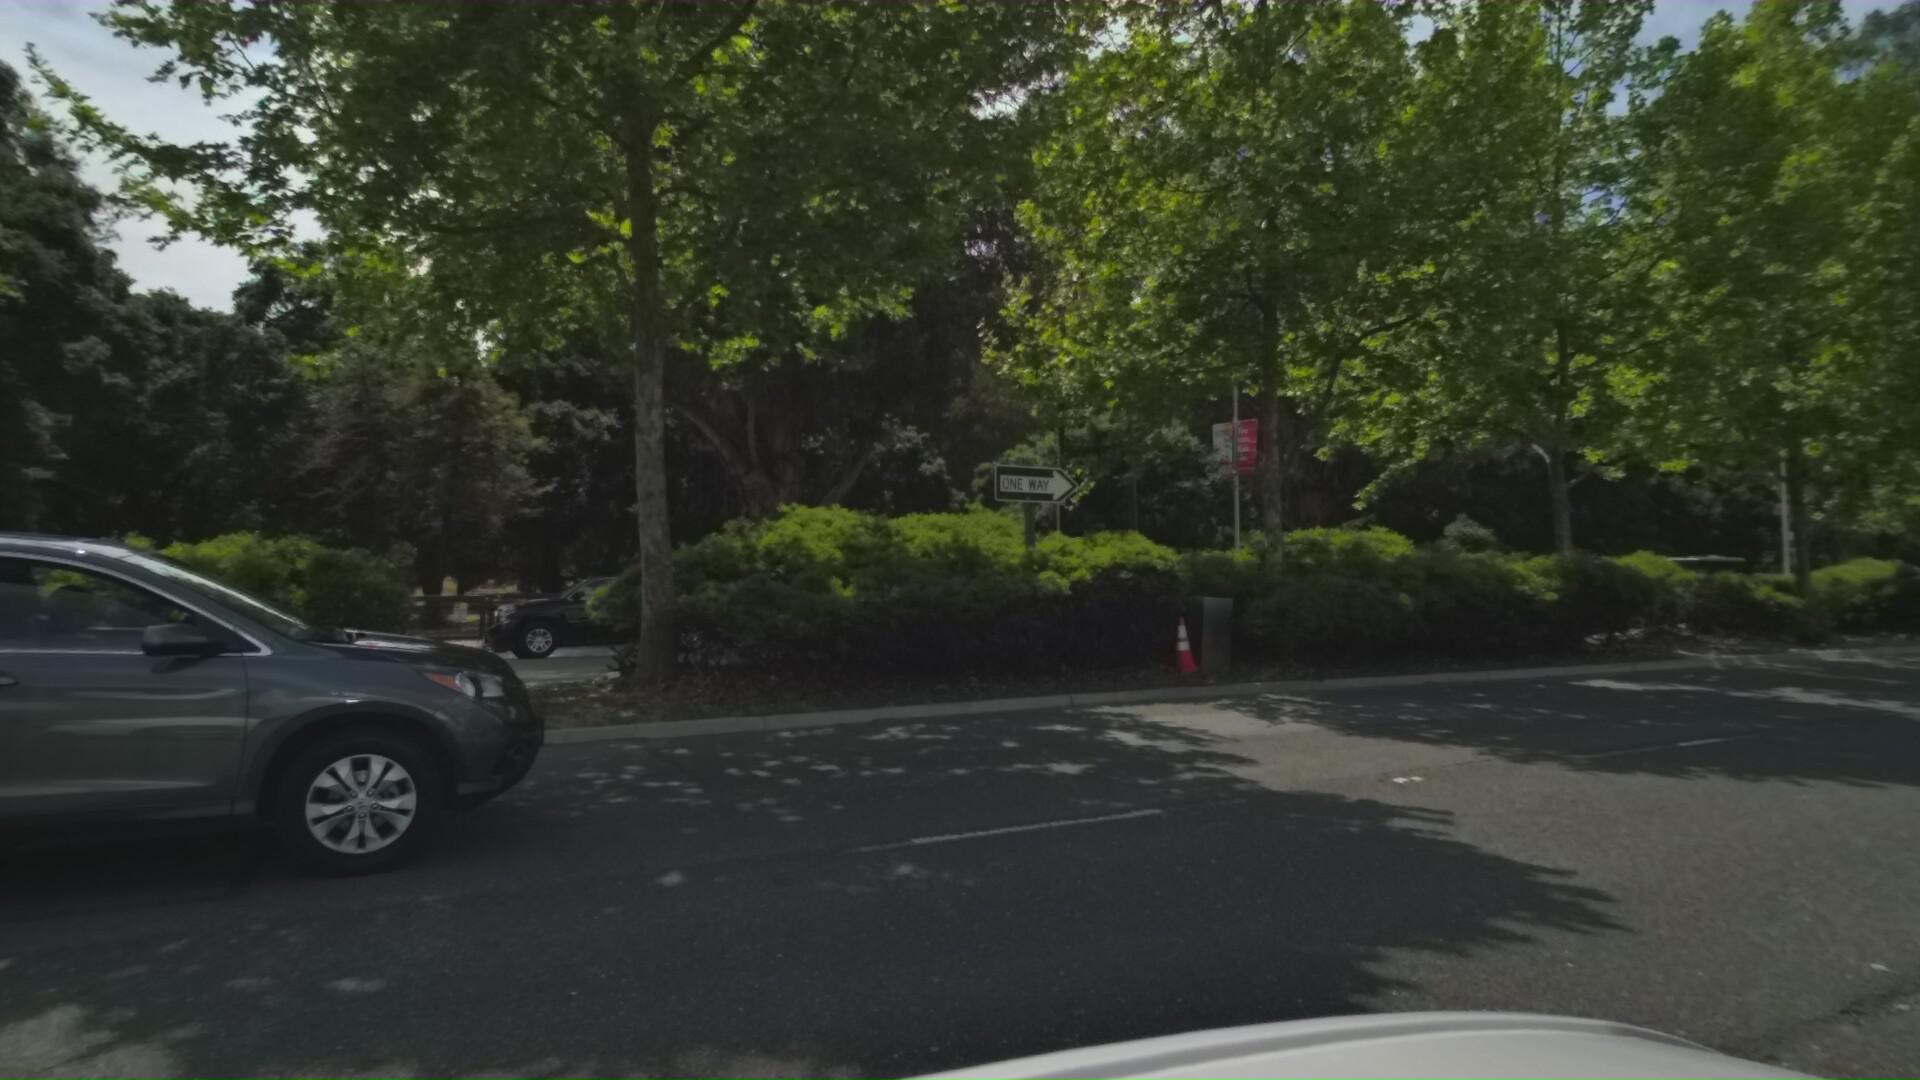car: (0, 491, 618, 1033), (439, 564, 712, 669)
other_vehicle: (749, 516, 1088, 658)
